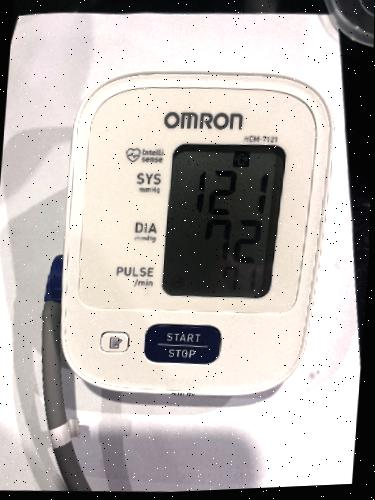bpm: (157, 132, 288, 306)
